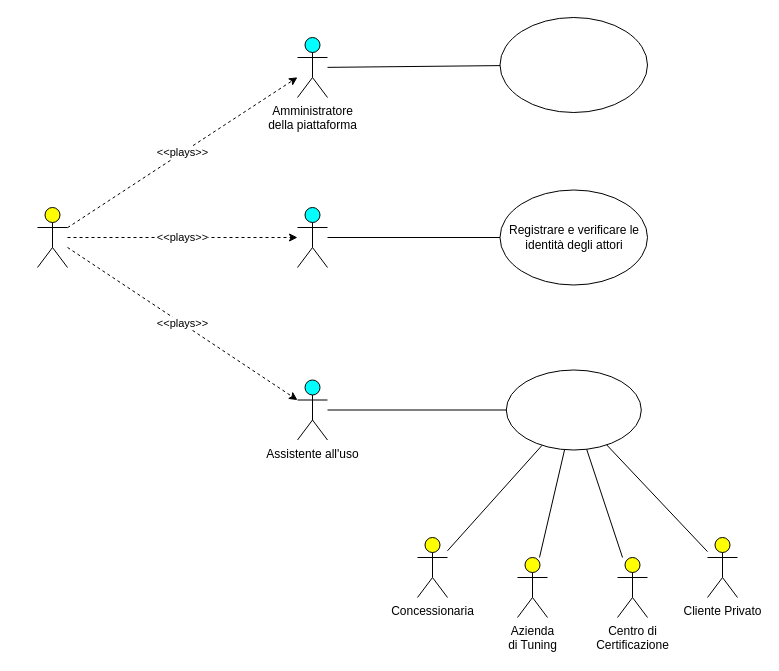
The diagram is 779 pixels wide and 671 high, and some of its shapes have lost their labels. Here are the shapes that lost their labels. From the top down, the box of each, then its label:
(499, 16, 648, 112): Configurare la piattaforma blockchain
(36, 206, 68, 268): Intermediario
(296, 206, 328, 268): Gestore delle identità e onboarding
(505, 369, 641, 450): Assistenza all'uso della piattaforma
